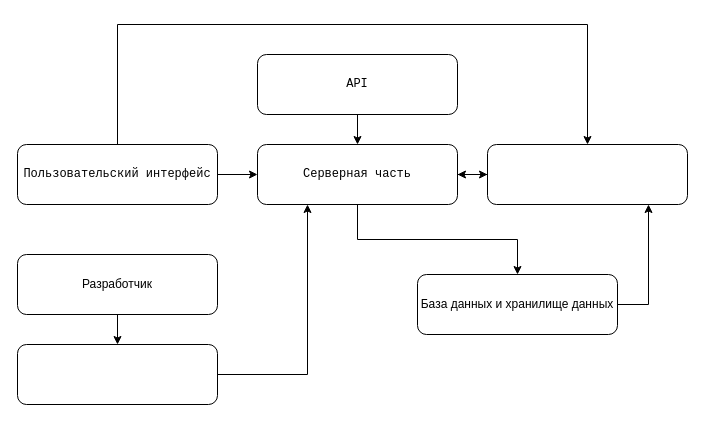
Image size: 705x422. Some labels were removed from this diagram. Each missing label, with the box of its shape:
Инструменты разработки: (16, 344, 218, 404)
Система кэширования: (486, 144, 688, 204)
